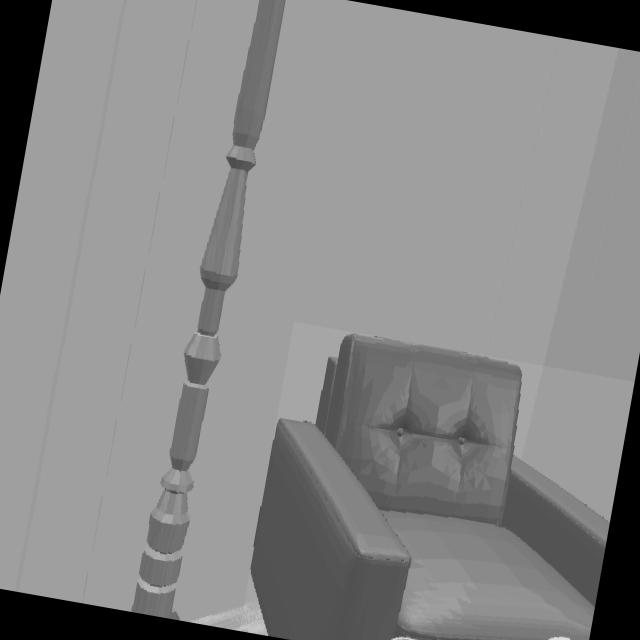sofa: (249, 337, 609, 640)
